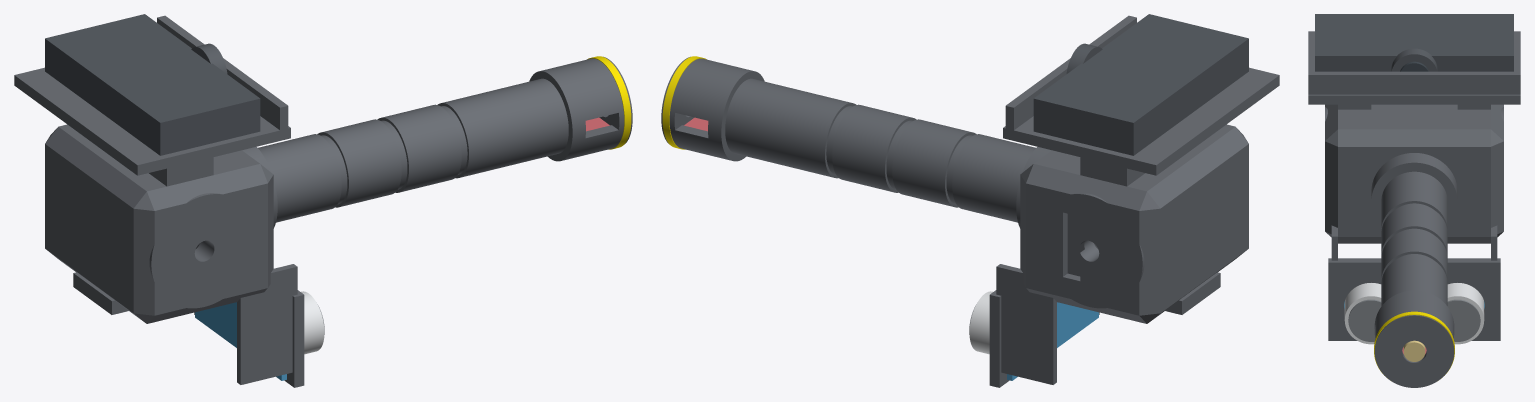
The model's file is fase2_canon_cuna.glb.
3 views of the same model, side by side, from view 1: azimuth 30°, elevation 25°; view 2: azimuth 150°, elevation 25°; view 3: azimuth 270°, elevation 25° (orthographic). The views are drawn at different scales.
Visible parts, largest first — view 1: =>[0:1:1:4], =>[0:1:1:26], =>[0:1:1:16], =>[0:1:1:18], =>[0:1:1:6]; view 2: =>[0:1:1:4], =>[0:1:1:26], =>[0:1:1:16], =>[0:1:1:22], =>[0:1:1:6]; view 3: =>[0:1:1:4], =>[0:1:1:26], =>[0:1:1:20], =>[0:1:1:24], =>[0:1:1:18], =>[0:1:1:22], =>[0:1:1:28], =>[0:1:1:6], =>[0:1:1:10], =>[0:1:1:30].
Part boxes in pixels (x1=…): =>[0:1:1:4]: x1=14, y1=15, x2=632, y2=387; =>[0:1:1:26]: x1=45, y1=14, x2=260, y2=155; =>[0:1:1:16]: x1=195, y1=302, x2=286, y2=380; =>[0:1:1:18]: x1=301, y1=291, x2=324, y2=354; =>[0:1:1:6]: x1=587, y1=56, x2=631, y2=149; =>[0:1:1:4]: x1=661, y1=15, x2=1279, y2=387; =>[0:1:1:26]: x1=1033, y1=14, x2=1248, y2=155; =>[0:1:1:16]: x1=1007, y1=302, x2=1098, y2=380; =>[0:1:1:22]: x1=969, y1=291, x2=992, y2=354; =>[0:1:1:6]: x1=662, y1=56, x2=706, y2=149; =>[0:1:1:4]: x1=1308, y1=31, x2=1520, y2=387; =>[0:1:1:26]: x1=1315, y1=14, x2=1513, y2=71; =>[0:1:1:20]: x1=1348, y1=299, x2=1381, y2=341; =>[0:1:1:24]: x1=1447, y1=299, x2=1480, y2=341; =>[0:1:1:18]: x1=1344, y1=283, x2=1381, y2=344; =>[0:1:1:22]: x1=1447, y1=283, x2=1484, y2=344; =>[0:1:1:28]: x1=1391, y1=48, x2=1437, y2=71; =>[0:1:1:6]: x1=1374, y1=311, x2=1454, y2=378; =>[0:1:1:10]: x1=1403, y1=340, x2=1425, y2=361; =>[0:1:1:30]: x1=1400, y1=61, x2=1428, y2=71.
Bounding box in the file's own units: 0.1602 × 0.0897 × 0.064.
